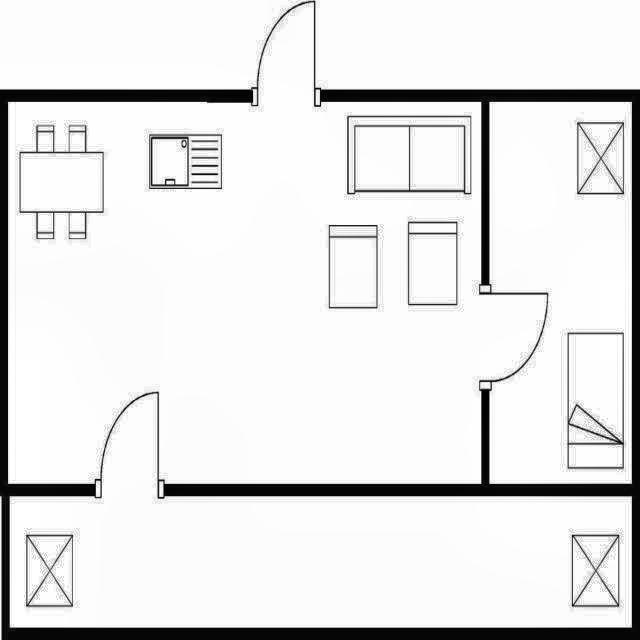room: (8, 102, 481, 484), (10, 496, 632, 628), (489, 102, 632, 484)
